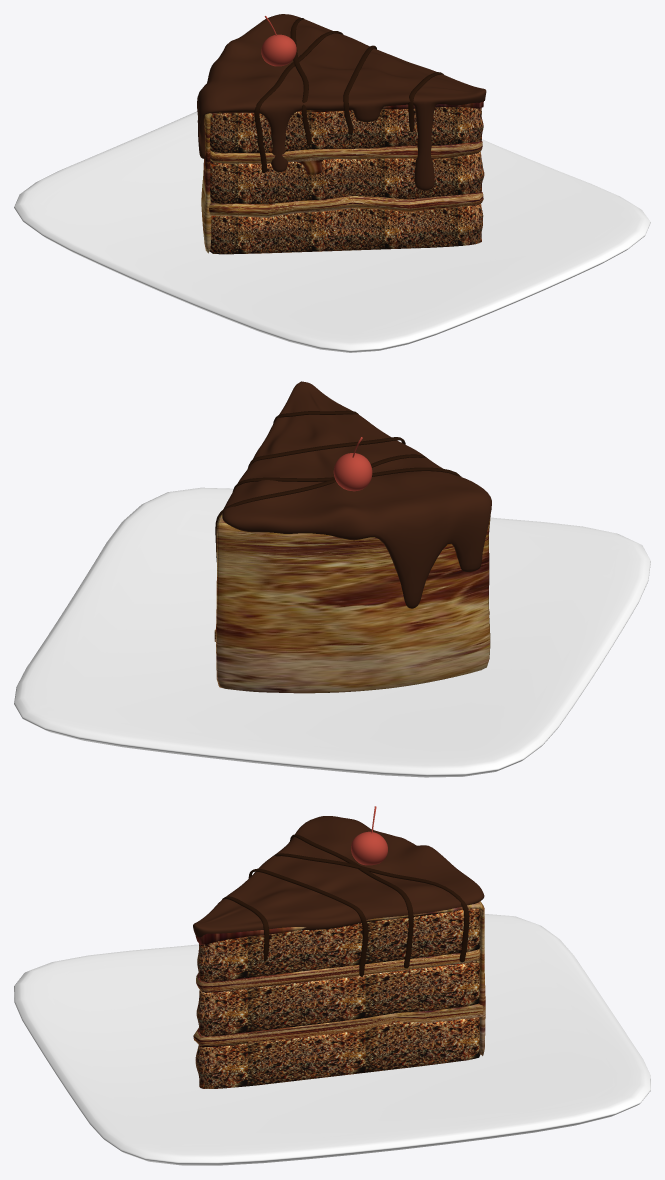
File: cake.glb
The picture shows the model from 3 angles, top to bottom: view 1: azimuth 30°, elevation 25°; view 2: azimuth 150°, elevation 25°; view 3: azimuth 270°, elevation 25°; orthographic projection. The views are drawn at different scales.
Visible parts, largest first — view 1: Box001, Group001, Cylinder001, Cylinder003, Cylinder005, Cylinder002, Cylinder004, Cylinder006, Sphere001, Plane003, Plane004, Plane002; view 2: Box001, Cylinder006, Group001, Sphere001, Plane004, Plane003, Plane002; view 3: Box001, Group001, Cylinder003, Cylinder001, Cylinder005, Cylinder002, Cylinder004, Cylinder006, Plane004, Sphere001, Plane003, Plane002.
Boxes of the visible parts, box(x1,y1,x2,y2) form: Box001: box(14, 111, 650, 352); Group001: box(197, 14, 486, 190); Cylinder001: box(209, 203, 483, 254); Cylinder003: box(210, 151, 484, 204); Cylinder005: box(210, 107, 483, 153); Cylinder002: box(209, 192, 483, 217); Cylinder004: box(210, 141, 482, 175); Cylinder006: box(201, 101, 483, 253); Sphere001: box(261, 34, 296, 66); Plane003: box(254, 31, 343, 172); Plane004: box(290, 18, 311, 145); Plane002: box(343, 45, 376, 134); Box001: box(14, 487, 650, 777); Cylinder006: box(216, 507, 490, 693); Group001: box(222, 381, 491, 608); Sphere001: box(333, 453, 372, 491); Plane004: box(215, 454, 426, 561); Plane003: box(232, 467, 461, 491); Plane002: box(248, 437, 405, 467); Box001: box(14, 914, 650, 1165); Group001: box(193, 816, 484, 937); Cylinder003: box(196, 960, 480, 1036); Cylinder001: box(195, 1017, 480, 1088); Cylinder005: box(197, 907, 480, 981); Cylinder002: box(193, 1003, 483, 1047); Cylinder004: box(196, 949, 480, 992); Cylinder006: box(195, 901, 485, 1055); Plane004: box(274, 853, 469, 962); Sphere001: box(351, 831, 387, 865); Plane003: box(290, 834, 413, 968); Plane002: box(248, 868, 368, 976).
Bounding box in the file's own units: 0.4385 × 0.1871 × 0.4766.
Materials: 12 (4 with a texture image).
